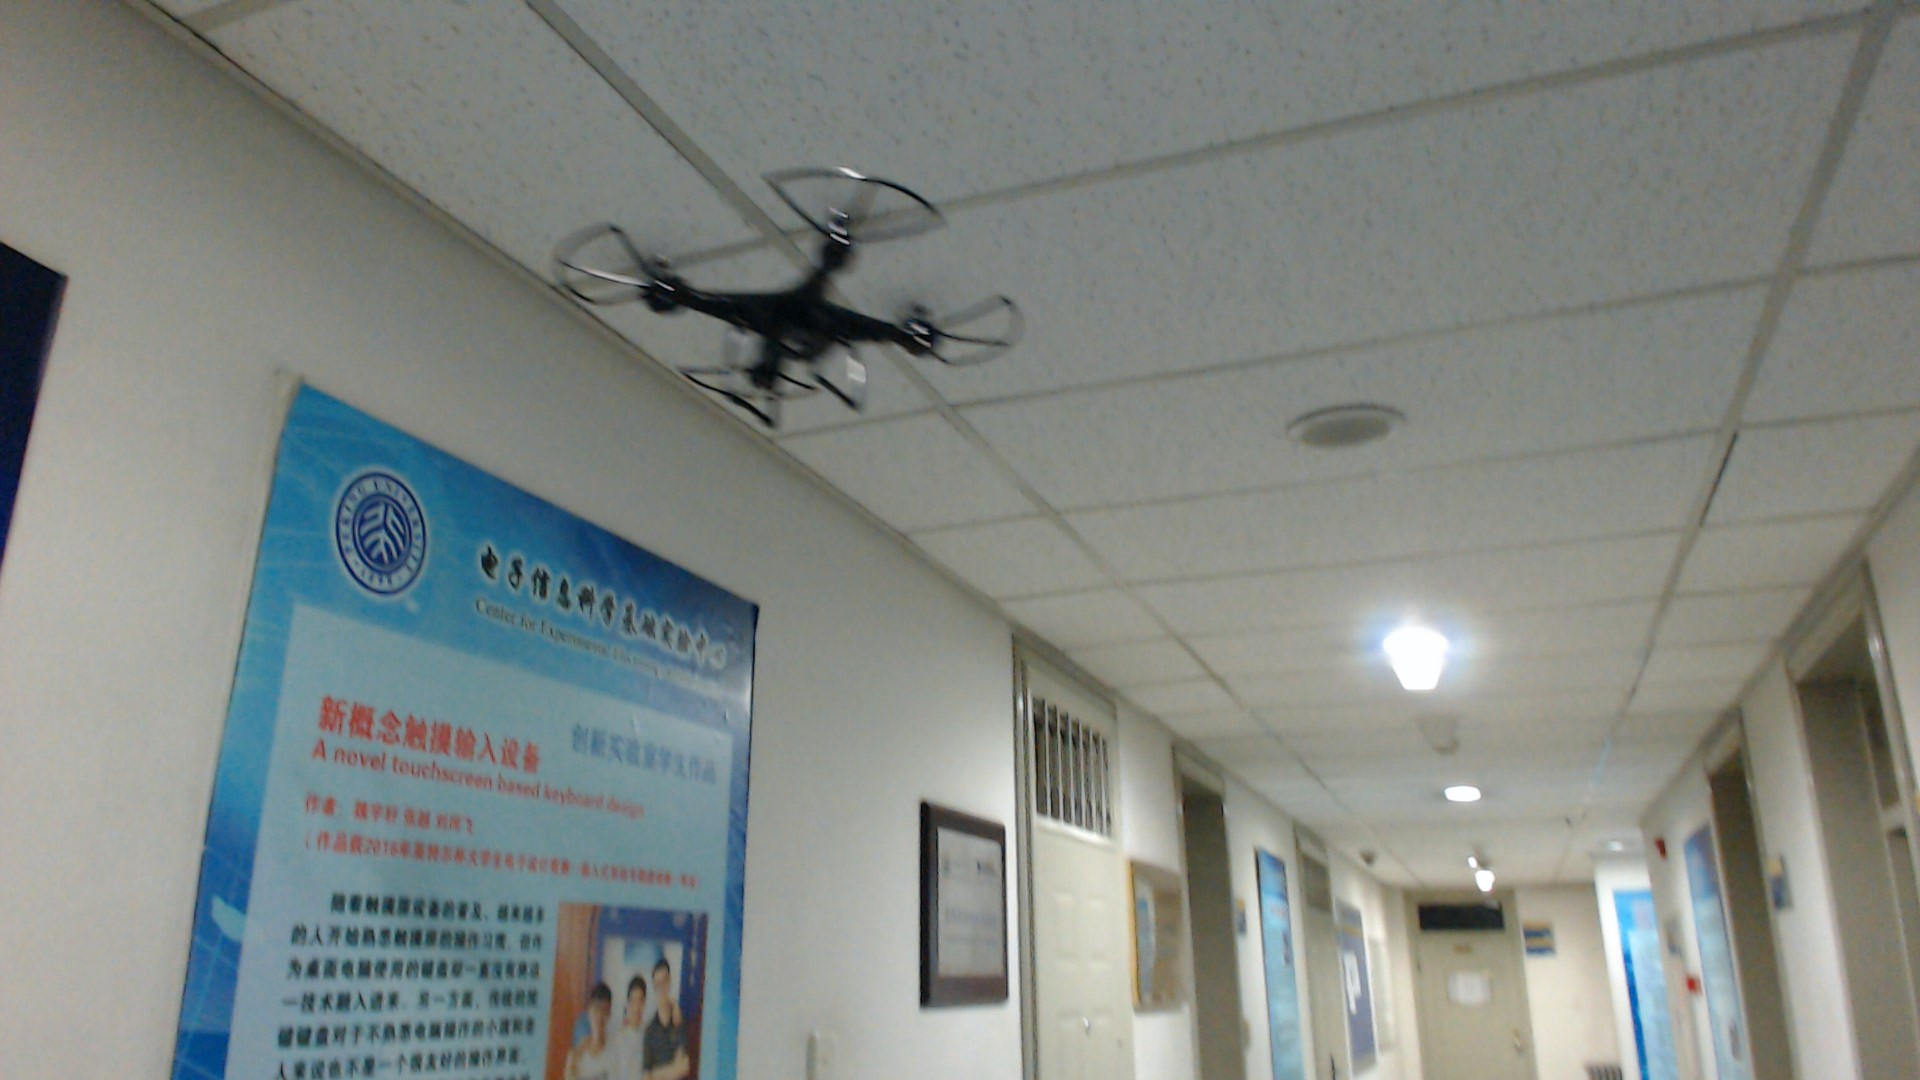test_drone: (549, 166, 1033, 434)
